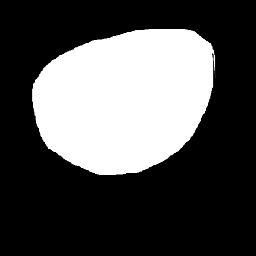mass: (43, 42, 191, 152)
